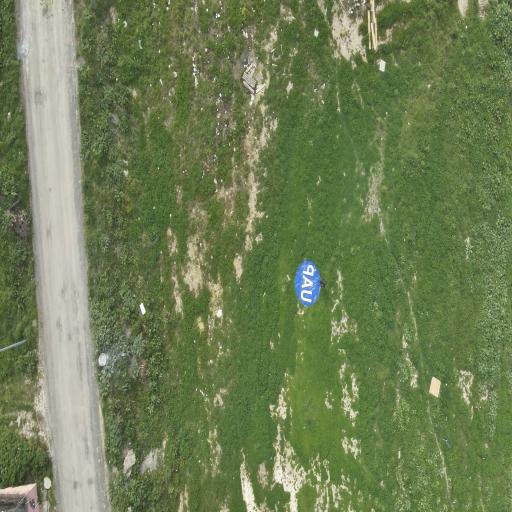UAP: (294, 261, 319, 306)
person: (319, 280, 325, 287)
